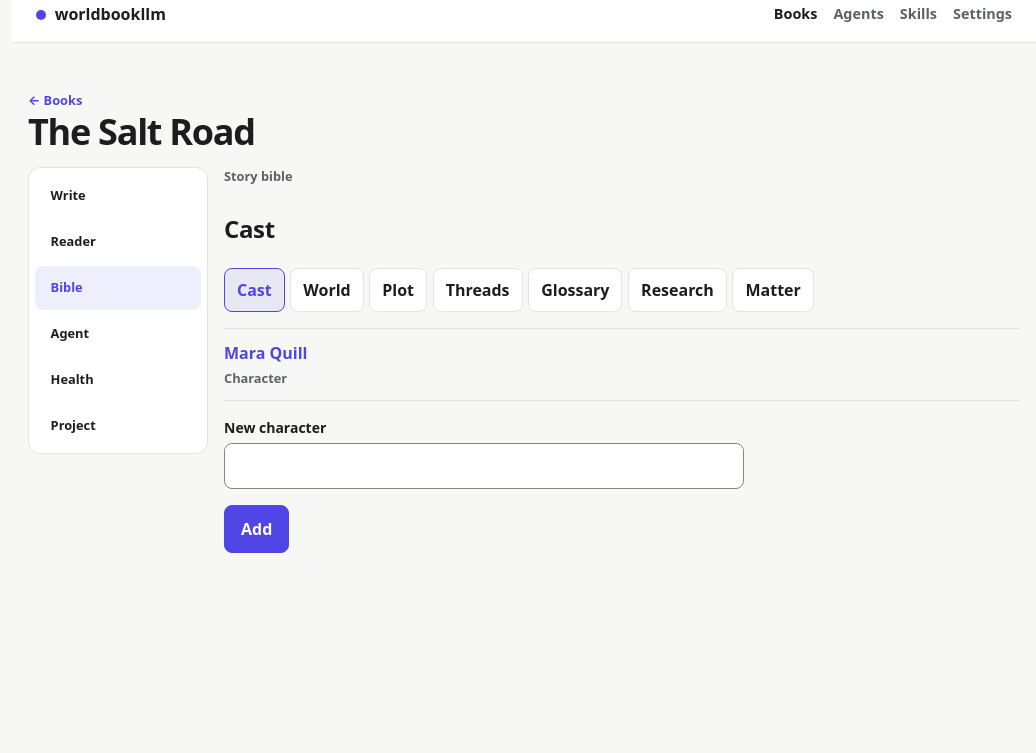
Test: book workspace › groups the bible by section and adds an entity with story add
Check: the link "Mara Quill" is shown, box x1=224 y1=342 x2=307 y2=364
Click the button "World" at (327, 290), box x1=290 y1=268 x2=364 y2=312
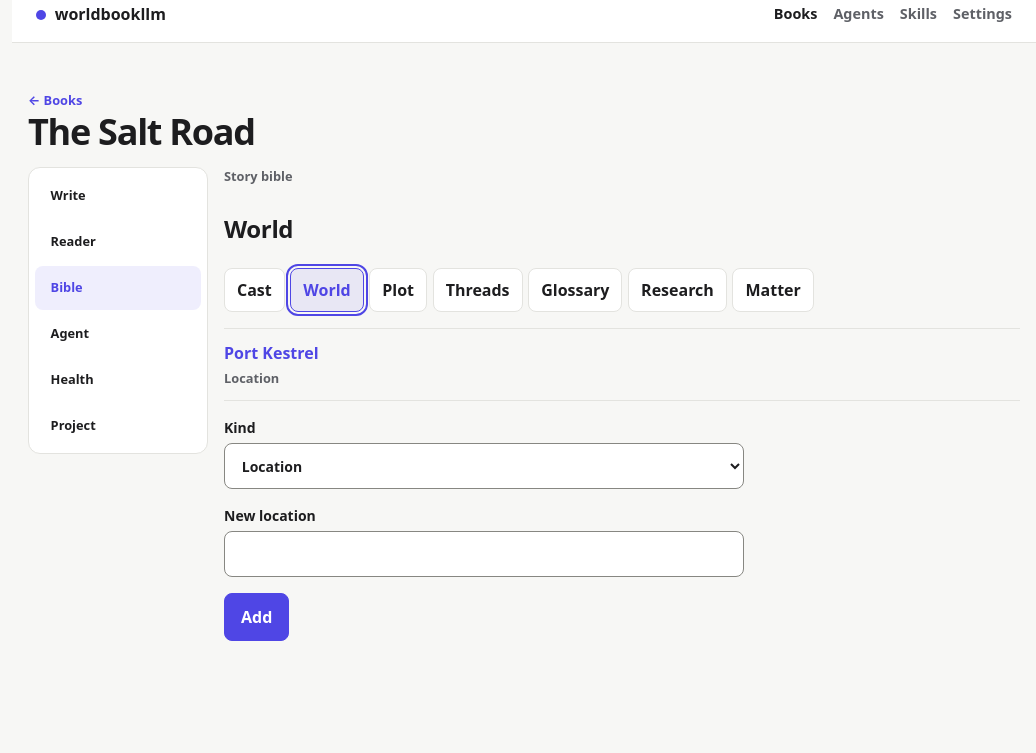
Select "Location" in the dropdown labelled "Kind" at (484, 466), box x1=224 y1=444 x2=744 y2=489
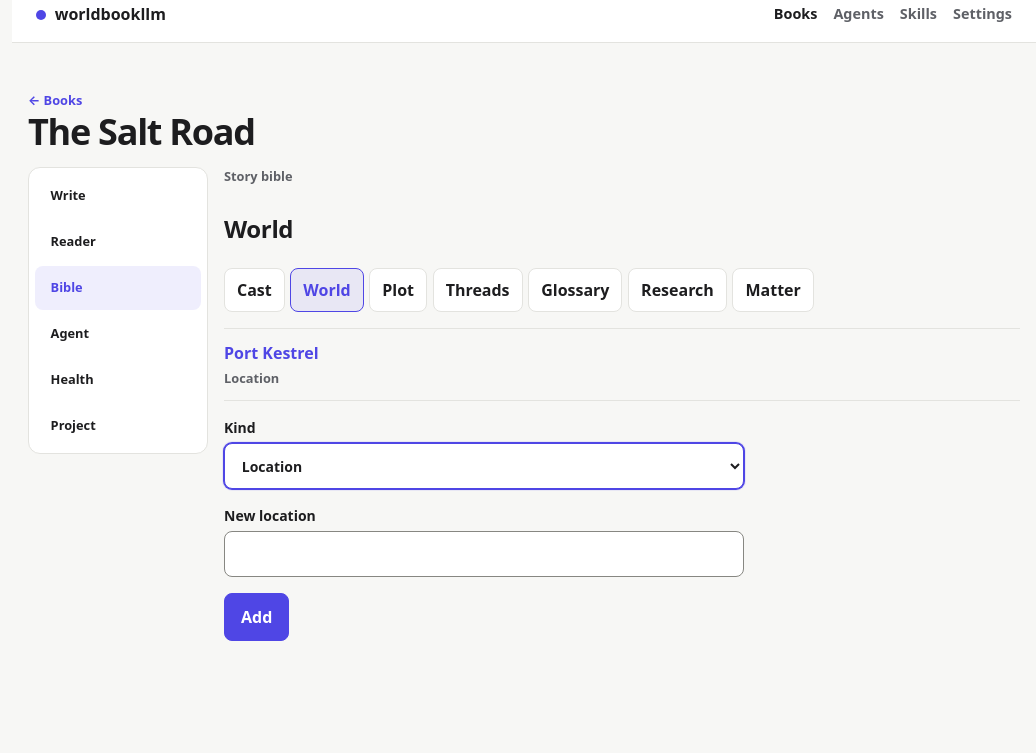
Type "Bellwether Reef" into the field labelled "New location" at (484, 554), box x1=224 y1=531 x2=744 y2=577
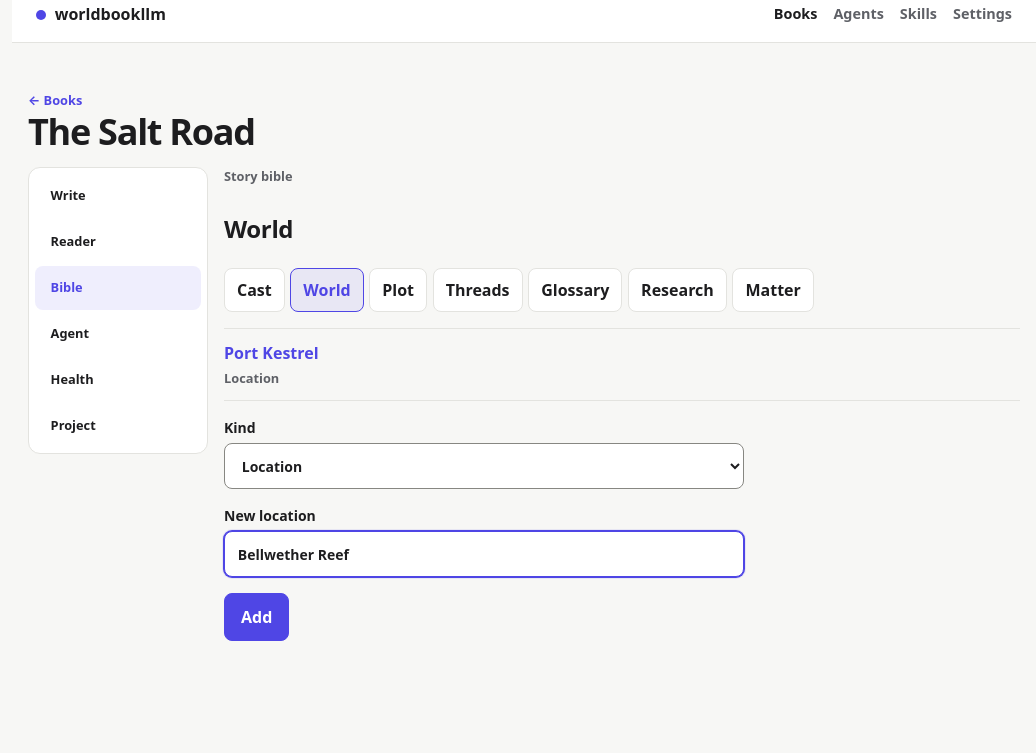
Click the button "Add" at (257, 617), box x1=224 y1=593 x2=289 y2=641
(page scrolled)
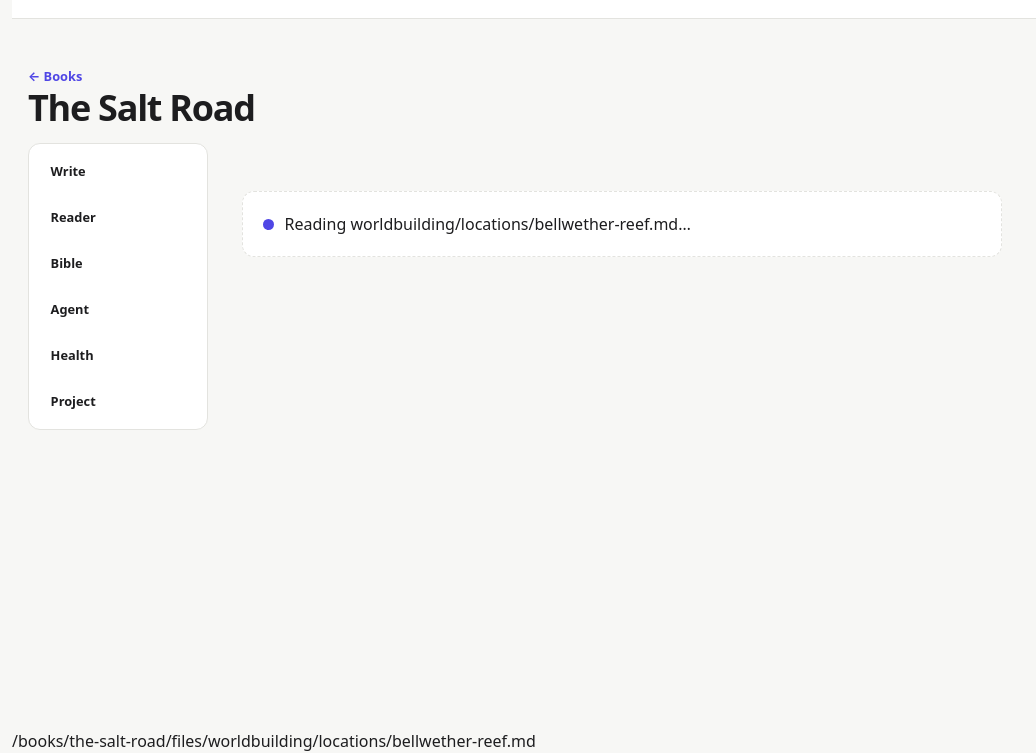
Check: the text with test id "location" reads "/books/the-salt-road/files/worldbuilding/locations/bellwether-reef.md", box x1=12 y1=730 x2=536 y2=752
